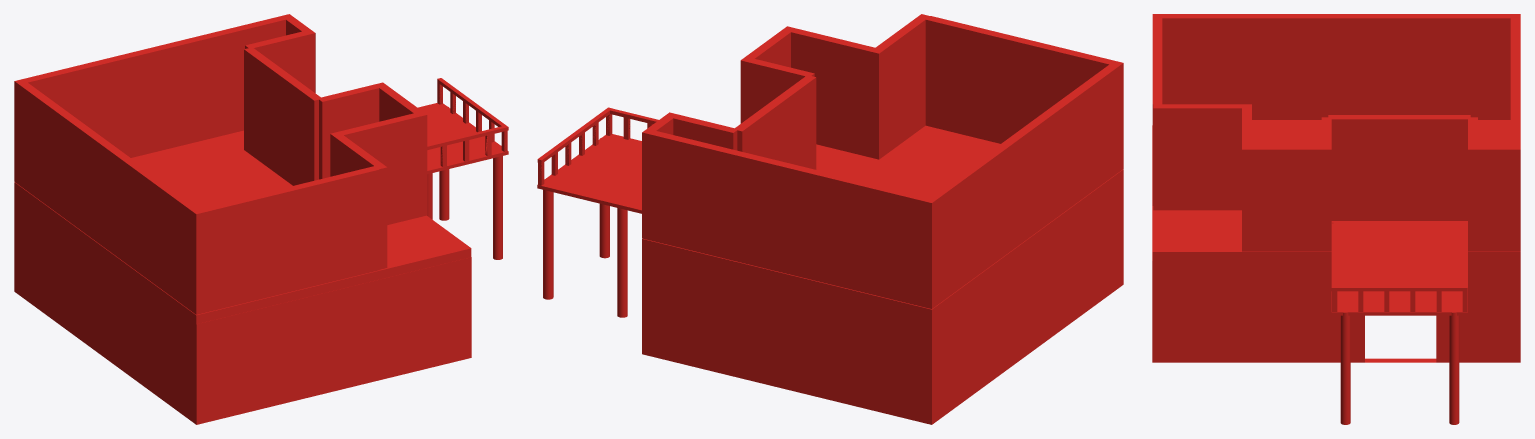
File: hotel_mod.glb
The picture shows the model from 3 angles, left to right: view 1: azimuth 30°, elevation 25°; view 2: azimuth 150°, elevation 25°; view 3: azimuth 270°, elevation 25°; orthographic projection. The views are drawn at different scales.
Parts seen in each view (by area): view 1: Cube, Cube001; view 2: Cube, Cube001; view 3: Cube, Cube001.
Part boxes in pixels (left/top/right/bottom): Cube: left=14, top=14, right=508, bottom=424; Cube001: left=437, top=78, right=507, bottom=151; Cube: left=537, top=14, right=1123, bottom=424; Cube001: left=538, top=114, right=612, bottom=185; Cube: left=1152, top=14, right=1520, bottom=424; Cube001: left=1332, top=286, right=1467, bottom=311.
Size of what is drawn, in the model's own units: 5.91 by 2.96 by 4.64.
